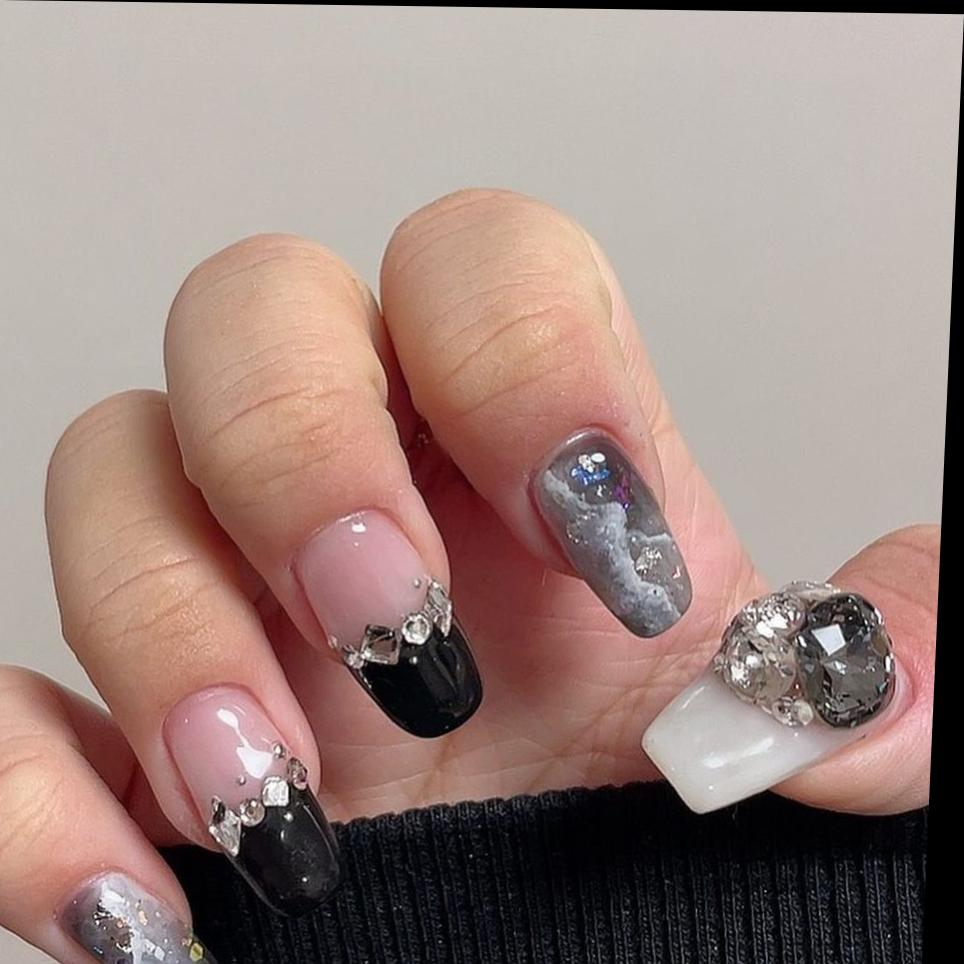nail: (636, 575, 902, 817), (282, 503, 492, 740), (151, 680, 351, 919), (520, 423, 701, 639), (56, 865, 230, 964)
